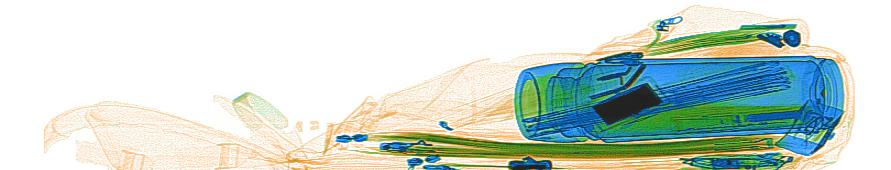battery: (743, 110, 805, 124)
